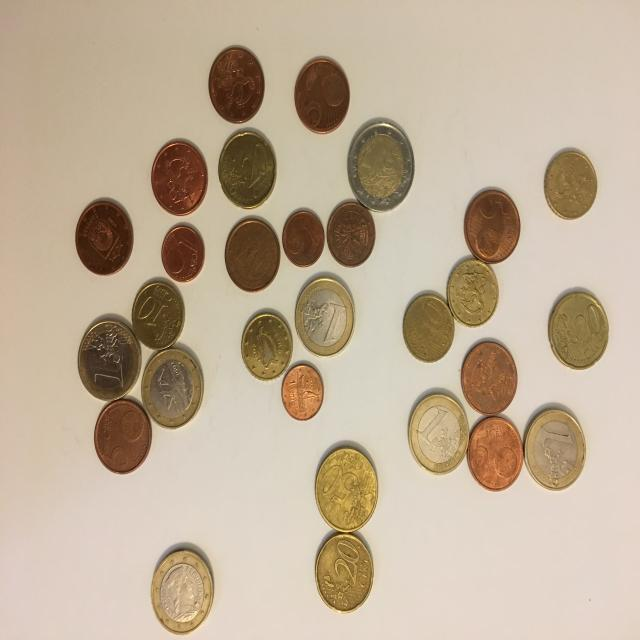10c: (538, 136, 605, 234), (125, 269, 193, 356), (442, 242, 506, 332), (398, 286, 462, 367), (237, 306, 297, 388)
1c: (276, 354, 330, 426), (157, 216, 210, 288), (278, 204, 329, 272)
1e: (518, 396, 596, 504), (400, 383, 480, 482), (144, 538, 220, 639), (137, 334, 210, 438), (72, 305, 147, 406), (288, 266, 362, 364)
20c: (308, 520, 382, 622), (542, 282, 618, 376), (213, 123, 280, 212)
2c: (318, 192, 381, 274)
2e: (343, 110, 422, 218)
50c: (309, 436, 386, 536)
5c: (286, 49, 361, 144), (202, 36, 273, 130), (72, 190, 142, 282), (88, 388, 156, 482), (462, 406, 530, 499), (220, 208, 289, 298), (457, 332, 525, 420), (460, 184, 528, 268), (146, 134, 210, 222)
